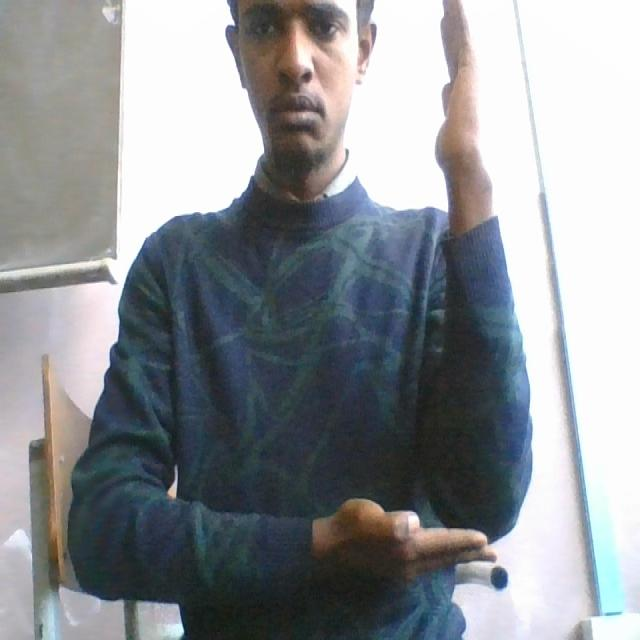egziabher: (341, 0, 516, 596)
